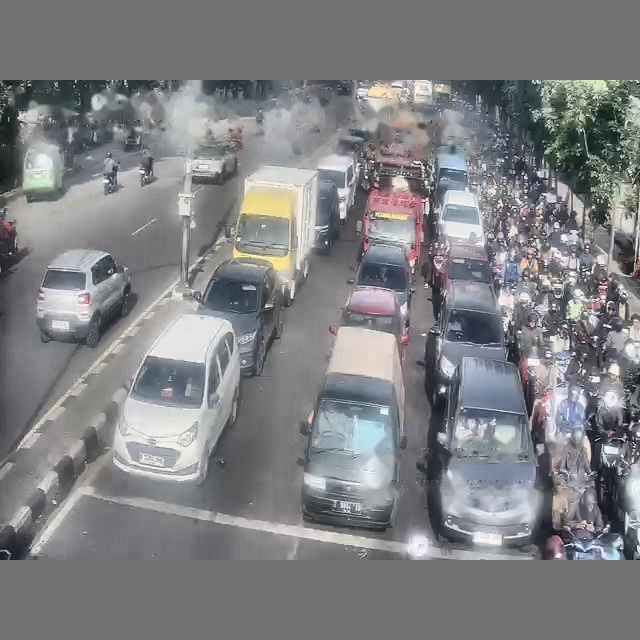Mobil: (417, 357, 540, 547), (113, 313, 240, 483), (424, 281, 506, 408), (195, 258, 283, 375), (36, 249, 131, 347), (347, 244, 413, 323), (340, 287, 408, 358), (317, 154, 356, 223), (438, 190, 485, 245), (442, 242, 492, 292), (191, 142, 238, 183), (315, 180, 340, 254), (124, 127, 144, 152)
Truk: (232, 165, 317, 305)
